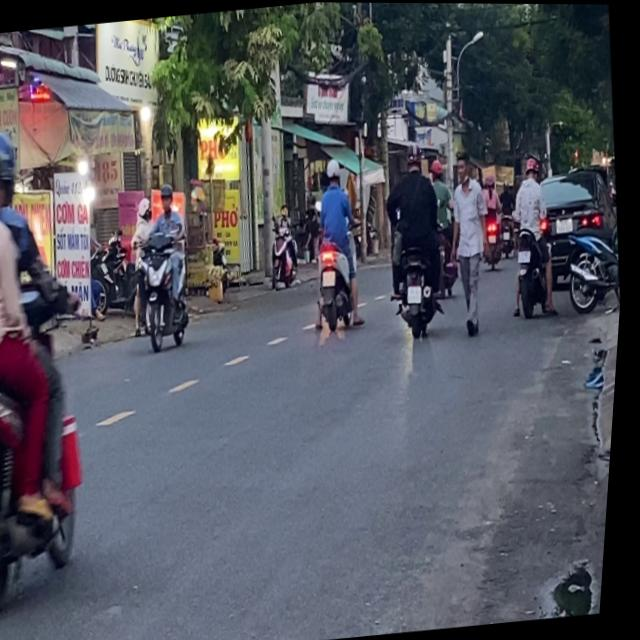helmet: (0, 125, 24, 208), (0, 130, 10, 217), (403, 138, 425, 171), (158, 179, 177, 211), (324, 155, 342, 184), (523, 152, 540, 177)
licenseplate: (0, 109, 123, 617), (373, 135, 459, 341), (127, 177, 205, 352), (301, 153, 374, 334), (501, 151, 567, 318)
nohelmet: (408, 282, 425, 302), (323, 267, 340, 285), (520, 247, 533, 261)
